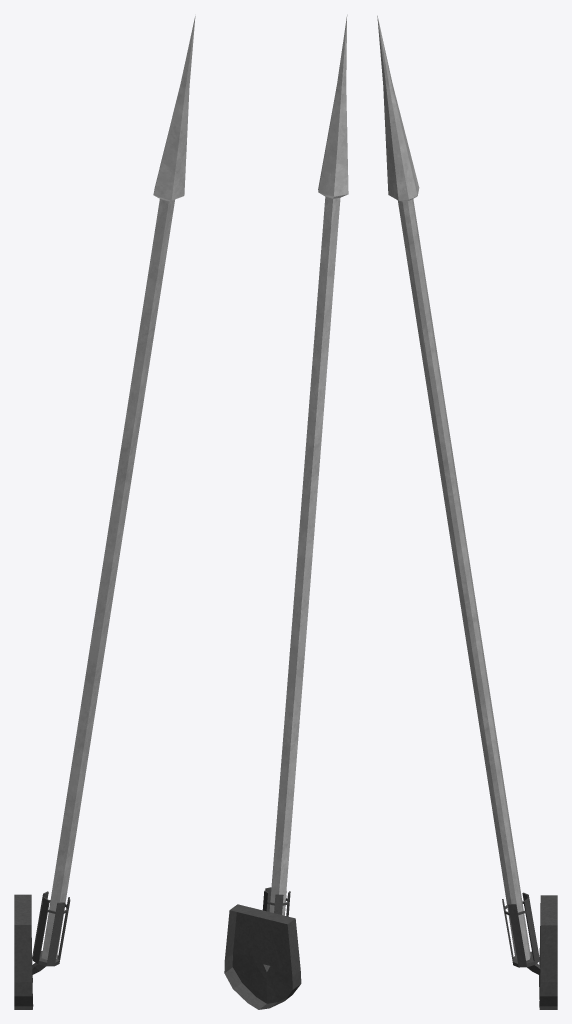
The model's file is Spear.fbx.
3 renders of one model, left to right at view 1: azimuth 90°, elevation 25°; view 2: azimuth 150°, elevation 25°; view 3: azimuth 270°, elevation 25°, orthographic. The views are drawn at different scales.
Parts seen in each view (by area): view 1: Spear; view 2: Spear; view 3: Spear.
Part boxes in pixels (box(x1,y1,x2,y2)): Spear: box(14, 16, 195, 1009); Spear: box(224, 14, 348, 1009); Spear: box(377, 15, 557, 1009).
Bounding box in the file's own units: 0.3169 × 4.14 × 0.6828.
Materials: 1 (1 with a texture image).
